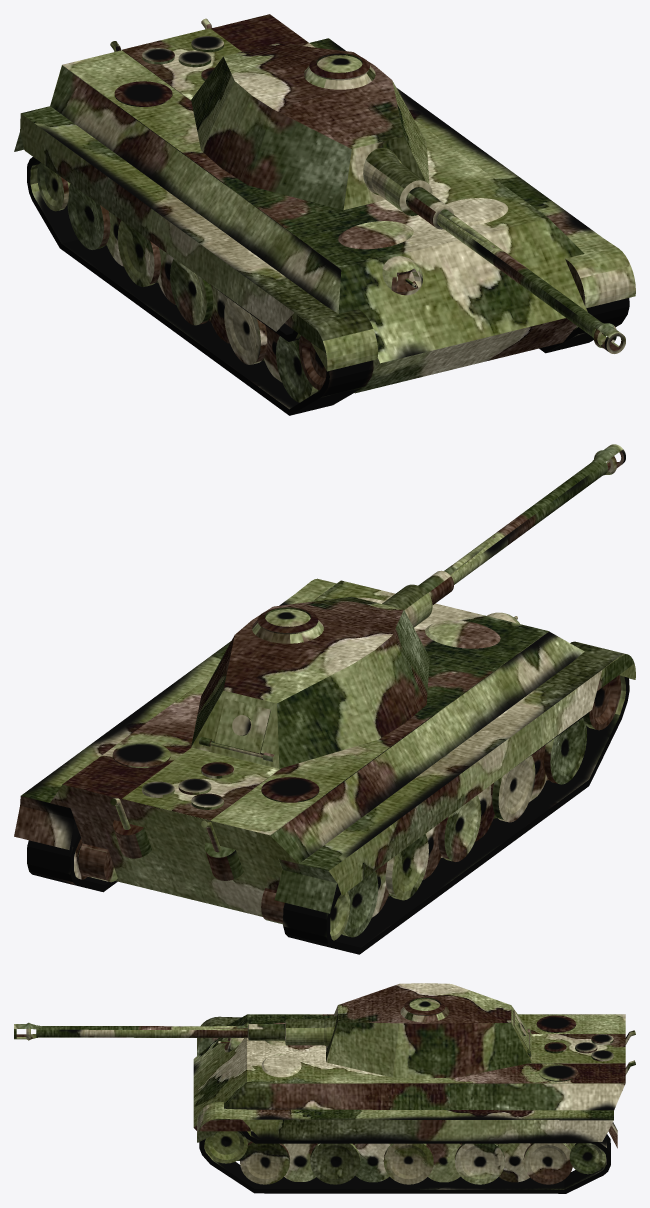
Rendered from tiger-II.gltf.
3 renders of one model, top to bottom at view 1: azimuth 30°, elevation 25°; view 2: azimuth 150°, elevation 25°; view 3: azimuth 270°, elevation 25°, orthographic. The views are drawn at different scales.
Visible parts, largest first — view 1: Cube; view 2: Cube; view 3: Cube.
Part boxes in pixels (box(x1,y1,x2,y2)): Cube: box(14, 14, 635, 415); Cube: box(14, 444, 635, 954); Cube: box(14, 983, 635, 1193).
Bounding box in the file's own units: 7.19 × 4.75 × 17.98.
Materials: 1 (1 with a texture image).
